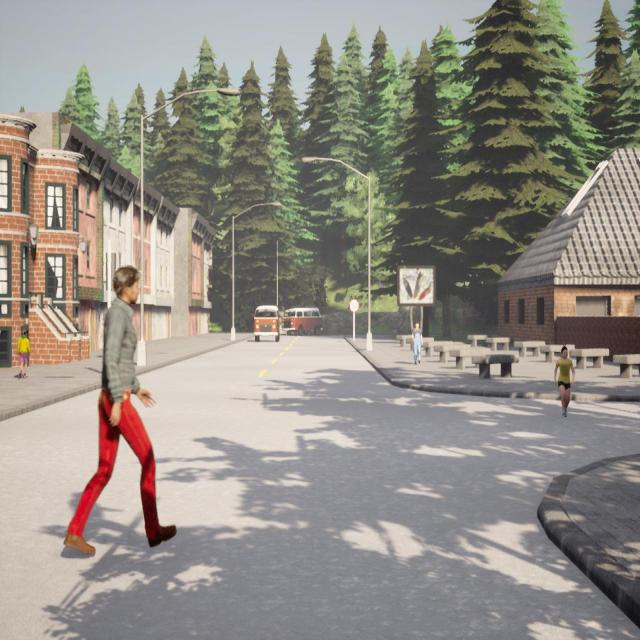Pedestrian: (64, 265, 177, 560), (552, 346, 579, 420), (15, 326, 31, 378), (412, 321, 422, 364)
Traffic_Signs: (349, 300, 359, 312)
Vehicle: (282, 309, 322, 336), (254, 306, 280, 342)
traffic_light: (106, 253, 116, 290)
